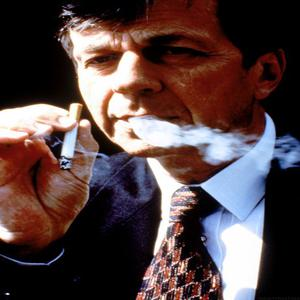cigarette: (58, 101, 86, 176)
